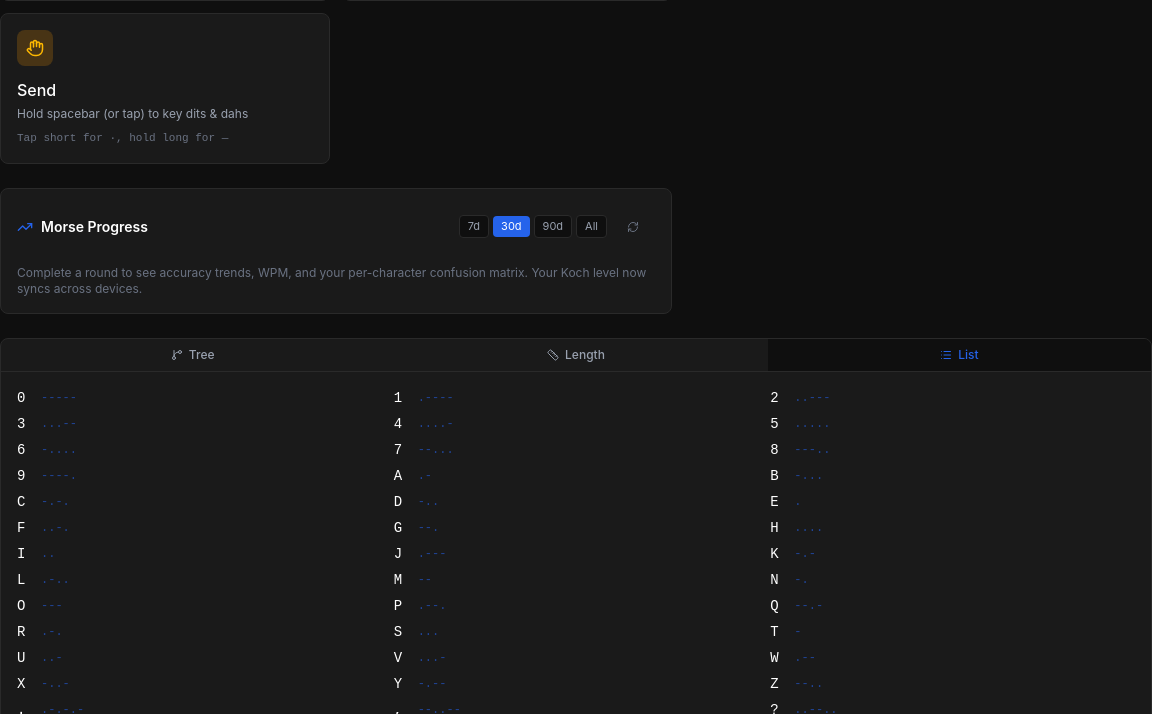
it: MorseTrainer deep-linking › drops the ?ref param when returning to the default tree tab
(page scrolled)
Click the button "Tree" at (193, 354), box [1,338,384,370]
(page scrolled)
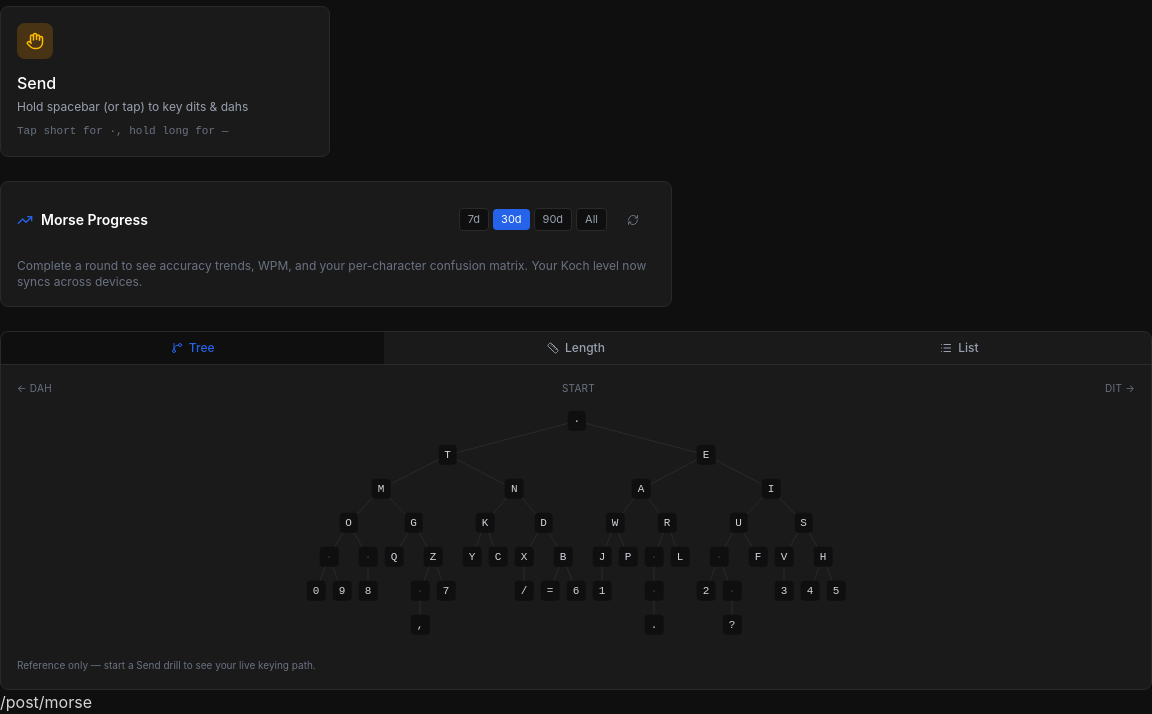
Result: the text with test id "loc" reads "/post/morse" at [0,692,92,712]
